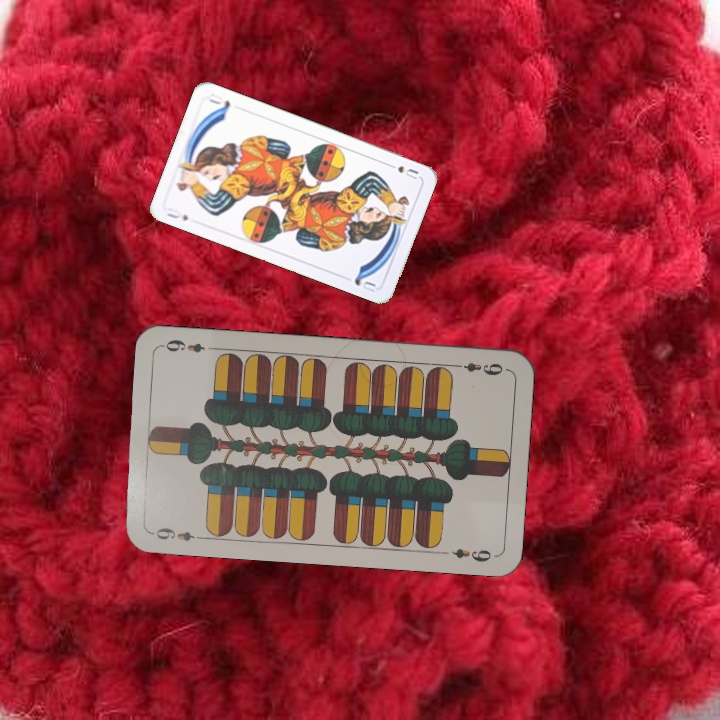E9: (147, 523, 206, 544), (449, 358, 506, 378)
SU: (383, 159, 421, 182), (162, 203, 191, 223)
